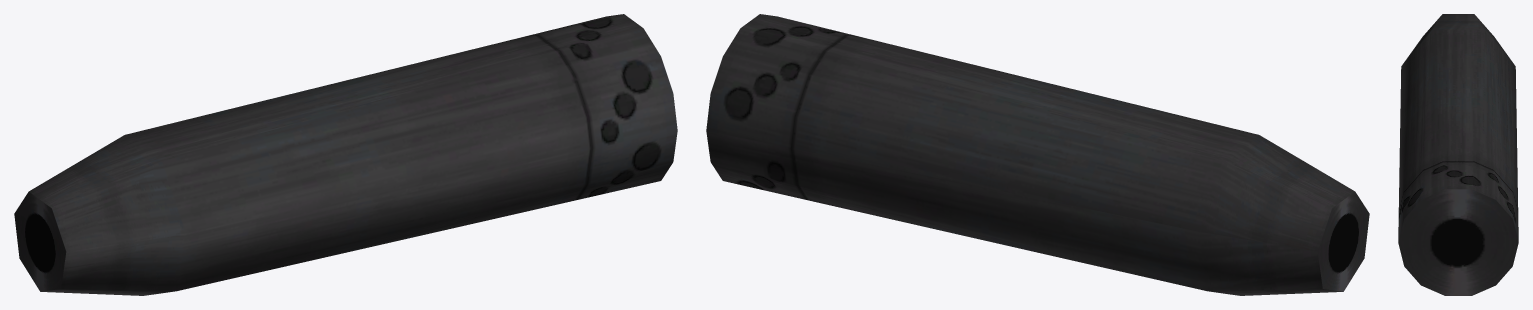
File: t6_attach_sniper_silencer1_world_LOD0.obj
3 renders of one model, left to right at view 1: azimuth 30°, elevation 25°; view 2: azimuth 150°, elevation 25°; view 3: azimuth 270°, elevation 25°, orthographic. The views are drawn at different scales.
Visible parts, largest first — view 1: mtl_t6_attach_sniper_silencer1; view 2: mtl_t6_attach_sniper_silencer1; view 3: mtl_t6_attach_sniper_silencer1.
Boxes of the visible parts, x1,y1,x2,y2 form: mtl_t6_attach_sniper_silencer1: (14, 14, 677, 295); mtl_t6_attach_sniper_silencer1: (706, 14, 1369, 295); mtl_t6_attach_sniper_silencer1: (1398, 14, 1518, 295).
Bounding box in the file's own units: 24.32 × 6.07 × 6.23.
